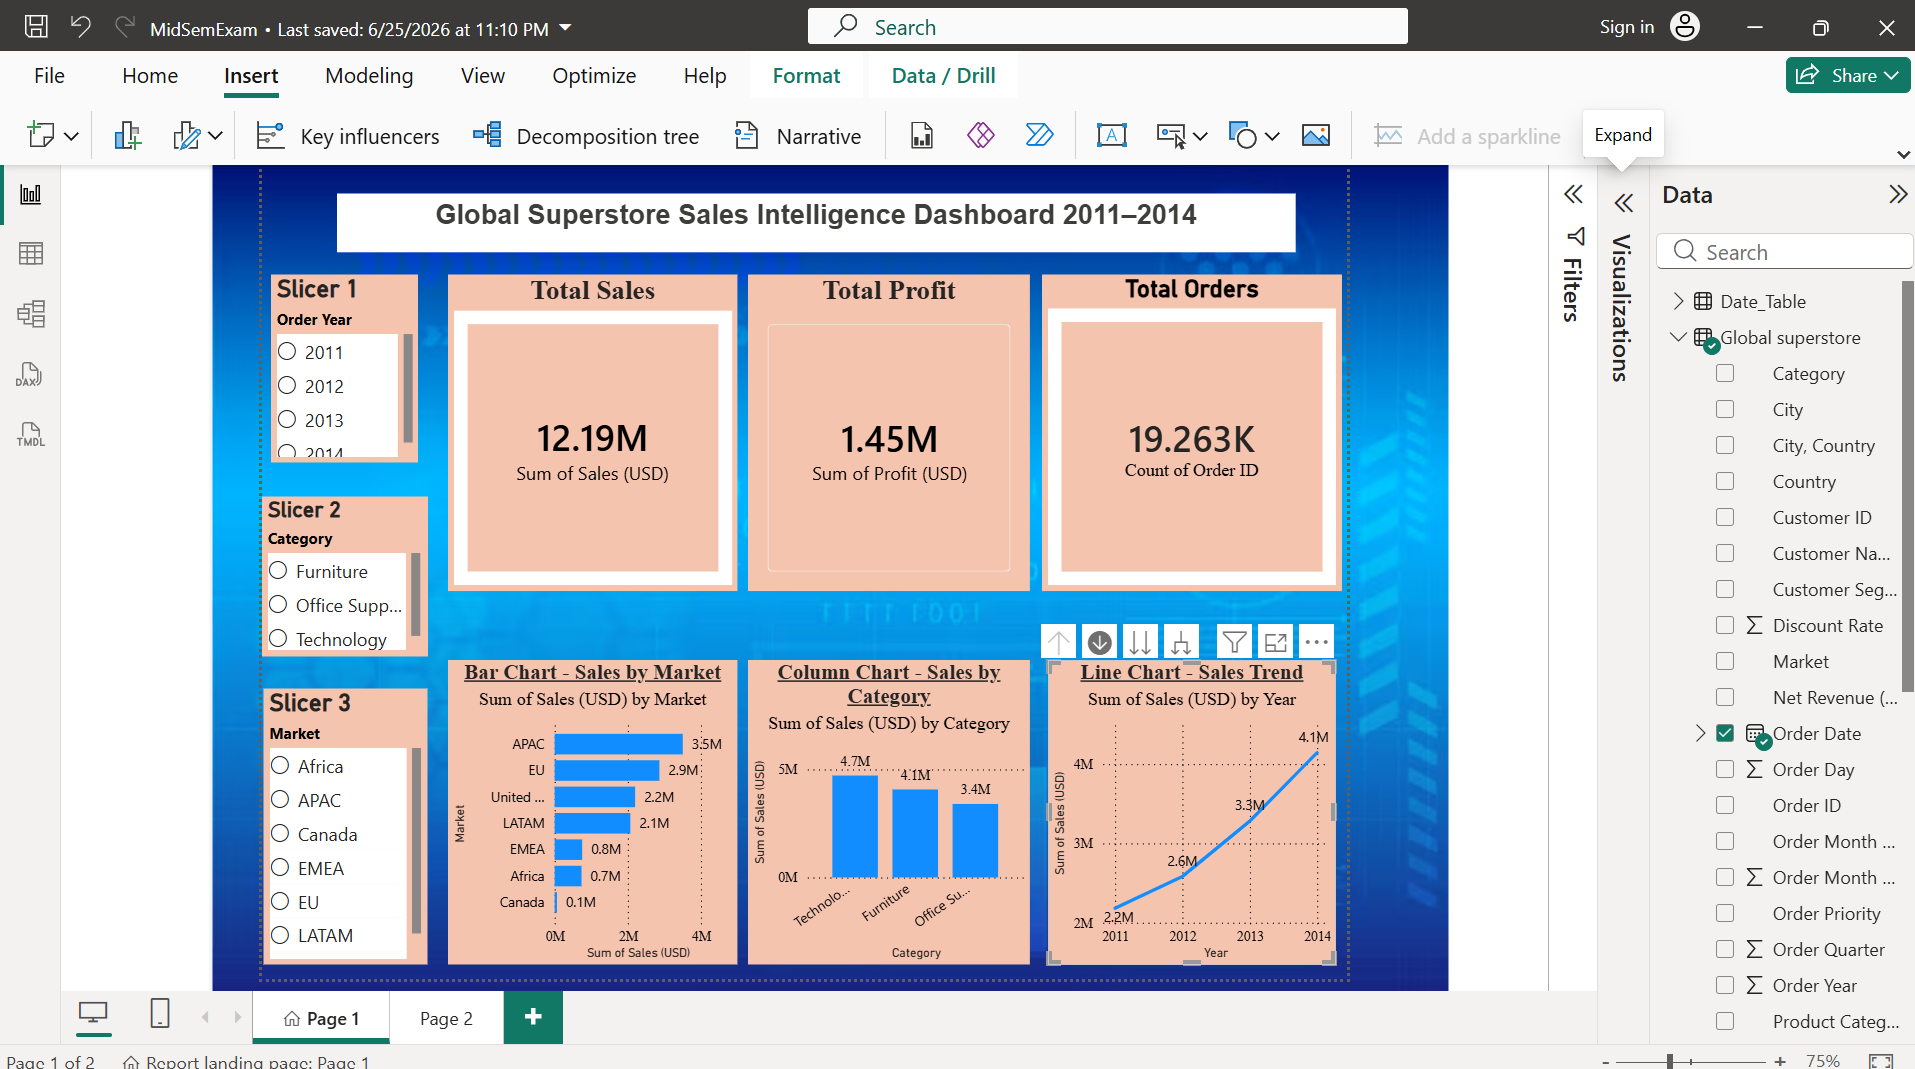

This screenshot's page, from the dashboard's own definition file:
{"tool":"powerbi","page":{"name":"Page 1","canvas":[960,720],"ordinal":0},"visuals":[{"type":"textbox","box":[66.3,25.2,847.8,51.7],"z":0},{"type":"cardVisual","title":"Total Sales","fields":{"Data":["Sum(Global superstore.Sales (USD))"]},"box":[164.5,96.9,256.1,280],"z":1000},{"type":"cardVisual","title":"Total Profit","fields":{"Data":["Sum(Global superstore.Profit (USD))"]},"box":[429.9,96.9,249.4,280],"z":2000},{"type":"cardVisual","title":"Total Orders","fields":{"Data":["Count(Global superstore.Order ID)"]},"box":[689.9,96.9,265.4,280],"z":3000},{"type":"clusteredBarChart","title":"Bar Chart - Sales by Market","fields":{"Category":["Global superstore.Market"],"Y":["Sum(Global superstore.Sales (USD))"]},"box":[164.5,437.8,256.1,269.3],"z":4000},{"type":"clusteredColumnChart","title":"Column Chart - Sales by Category","fields":{"Y":["Sum(Global superstore.Sales (USD))"],"Category":["Global superstore.Category"]},"box":[429.9,437.8,249.4,269.3],"z":5000},{"type":"lineChart","title":"Line Chart - Sales Trend","fields":{"Y":["Sum(Global superstore.Sales (USD))"],"Category":["Global superstore.Order Date.Variation.Date Hierarchy.Year","Global superstore.Order Date.Variation.Date Hierarchy.Quarter","Global superstore.Order Date.Variation.Date Hierarchy.Month","Global superstore.Order Date.Variation.Date Hierarchy.Day"]},"box":[695.2,437.8,254.7,269.3],"z":6000},{"type":"listSlicer","title":"Slicer 1","fields":{"Values":["Global superstore.Order Year"]},"box":[8,96.9,130,165.9],"z":7000},{"type":"listSlicer","title":"Slicer 3","fields":{"Values":["Global superstore.Market"]},"box":[1.3,463.1,144.6,244.1],"z":8000},{"type":"listSlicer","title":"Slicer 2","fields":{"Values":["Global superstore.Category"]},"box":[0,293.2,145.9,140.6],"z":9000}]}

Visuals, with their boxes on the page's 960x720 design canvas (x1, y1, x2, y2). These are canvas units, not pixel positions in the 1915x1069 screenshot, which may show the page scaled, cropped or inside an application window:
textbox: [x1=66, y1=25, x2=914, y2=77]
"Total Sales" cardVisual: [x1=164, y1=97, x2=421, y2=377]
"Total Profit" cardVisual: [x1=430, y1=97, x2=679, y2=377]
"Total Orders" cardVisual: [x1=690, y1=97, x2=955, y2=377]
"Bar Chart - Sales by Market" clusteredBarChart: [x1=164, y1=438, x2=421, y2=707]
"Column Chart - Sales by Category" clusteredColumnChart: [x1=430, y1=438, x2=679, y2=707]
"Line Chart - Sales Trend" lineChart: [x1=695, y1=438, x2=950, y2=707]
"Slicer 1" listSlicer: [x1=8, y1=97, x2=138, y2=263]
"Slicer 3" listSlicer: [x1=1, y1=463, x2=146, y2=707]
"Slicer 2" listSlicer: [x1=0, y1=293, x2=146, y2=434]
